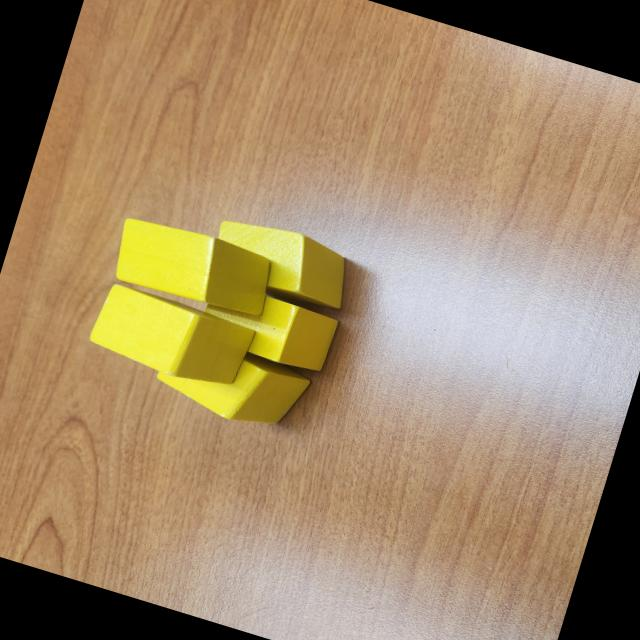yellow: (84, 278, 258, 396), (106, 210, 279, 324), (150, 331, 314, 442), (202, 210, 358, 316), (192, 276, 340, 376)
